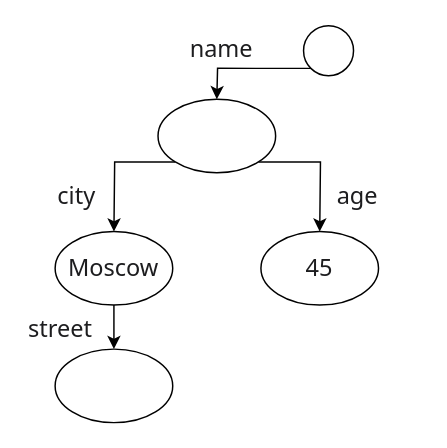
Some shapes in this 447 by 448 pixel diagram are drawn without their labels. Here are the shapes that lost their labels. From the top down, the centre of each, then its label:
At pixel 216 135: "Ivan Petrov".
At pixel 113 385: "Tverskaya Street".
